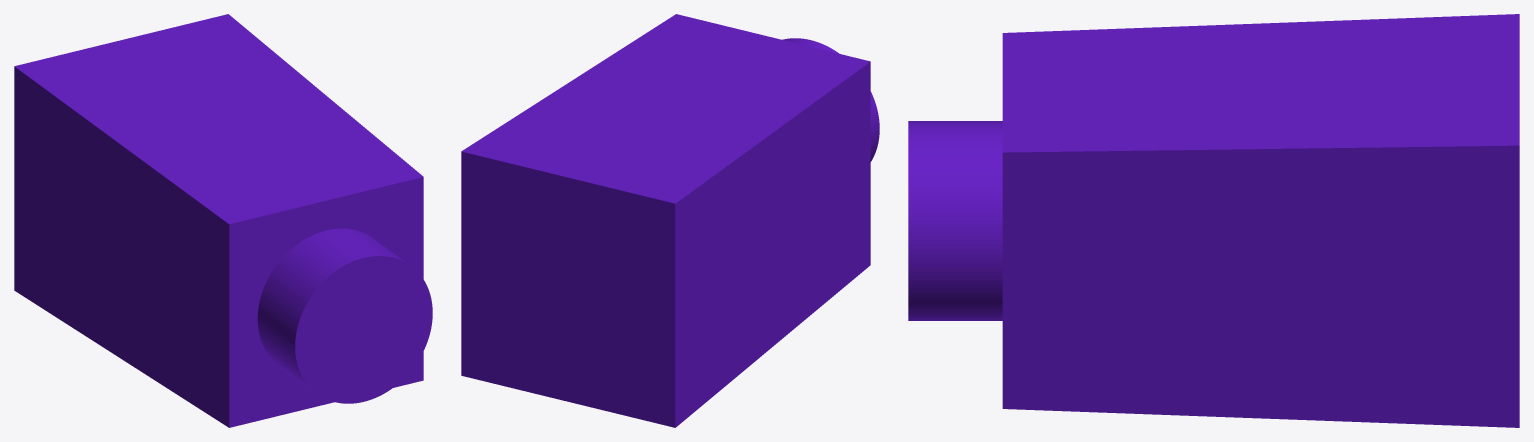
3 views of the same model, side by side, from view 1: azimuth 30°, elevation 25°; view 2: azimuth 150°, elevation 25°; view 3: azimuth 270°, elevation 25° (orthographic). The views are drawn at different scales.
Parts seen in each view (by area): view 1: node; view 2: node; view 3: node.
Boxes of the visible parts, x1,y1,x2,y2 form: node: [14, 14, 432, 427]; node: [461, 14, 879, 427]; node: [908, 14, 1519, 427].
Size of the model in its own units: 0.0904 by 0.0904 by 0.1774.
